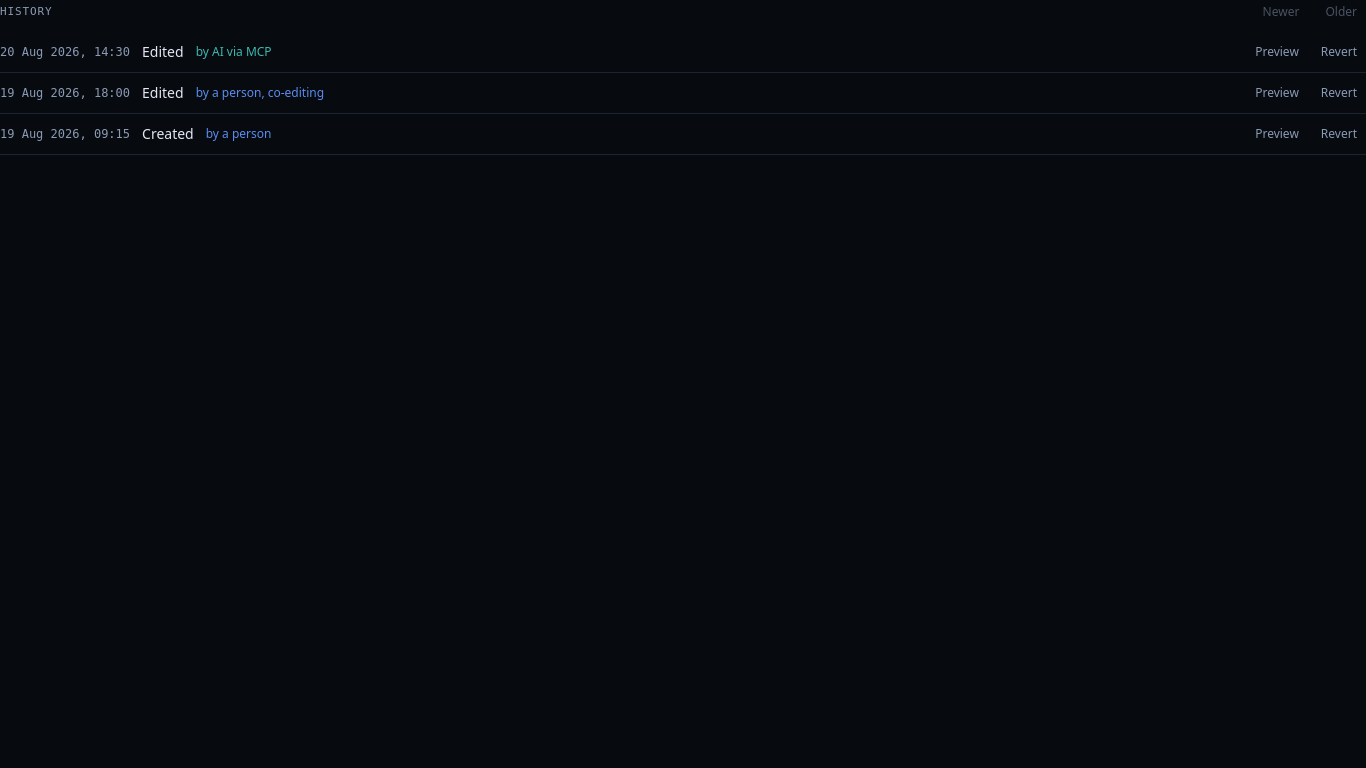
RevisionHistory › opens diff preview modal showing visual additions and deletions comparing revision against current note
Click the button with aria-label "Preview changes from " at (1277, 134), box [1246,122,1308,146]
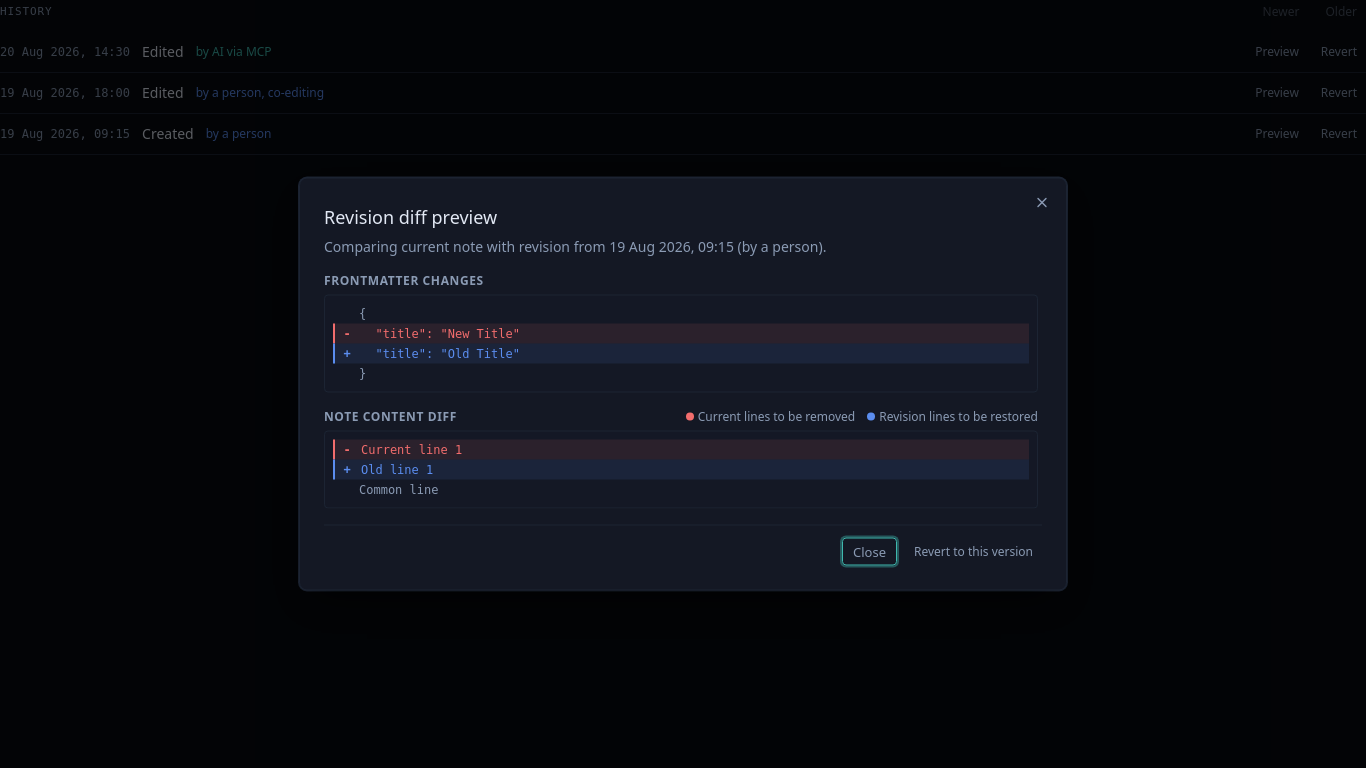
Now the dialog is shown, box [299,178,1067,590]
Now the heading "Revision diff preview" is shown, box [324,204,497,228]
Now the text "Current line 1" is shown, box [361,442,462,456]
